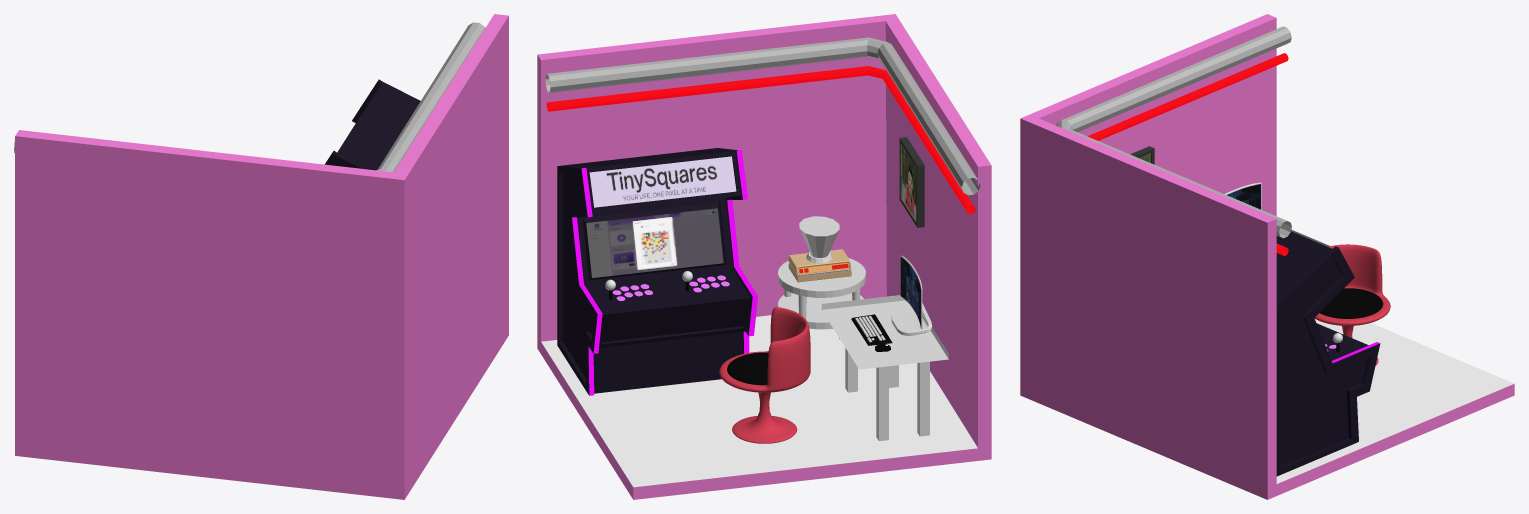
File: roomv2.glb
The picture shows the model from 3 angles, left to right: view 1: azimuth 30°, elevation 25°; view 2: azimuth 150°, elevation 25°; view 3: azimuth 270°, elevation 25°; orthographic projection. The views are drawn at different scales.
Parts seen in each view (by area): view 1: Room, Arcade, Pipes; view 2: Room, Arcade, Pipes, Chair base, Desk, Cube, Cylinder.001, Plane.038, Circle.001, Cylinder.002, Chair cushion, Monitor (+3 smaller); view 3: Room, Arcade, Pipes, Chair base, Chair cushion, Monitor.
Boxes of the visible parts, x1=… form: Room: x1=15, y1=14, x2=508, y2=499; Arcade: x1=325, y1=79, x2=420, y2=170; Pipes: x1=14, y1=22, x2=485, y2=172; Room: x1=537, y1=14, x2=991, y2=499; Arcade: x1=557, y1=148, x2=757, y2=395; Pipes: x1=545, y1=37, x2=980, y2=214; Chair base: x1=719, y1=307, x2=810, y2=443; Desk: x1=821, y1=295, x2=948, y2=369; Cube: x1=899, y1=137, x2=924, y2=227; Cylinder.001: x1=778, y1=258, x2=865, y2=297; Plane.038: x1=788, y1=249, x2=851, y2=282; Circle.001: x1=799, y1=216, x2=839, y2=257; Cylinder.002: x1=778, y1=293, x2=863, y2=329; Chair cushion: x1=727, y1=352, x2=768, y2=385; Monitor: x1=900, y1=255, x2=922, y2=329; Room: x1=1020, y1=14, x2=1514, y2=499; Arcade: x1=1276, y1=231, x2=1380, y2=476; Pipes: x1=1056, y1=26, x2=1291, y2=255; Chair base: x1=1314, y1=244, x2=1390, y2=365; Chair cushion: x1=1320, y1=288, x2=1383, y2=318; Monitor: x1=1224, y1=182, x2=1261, y2=209.
Size of what is drawn, in the model's own units: 11.31 by 7 by 11.31.
28 materials, 4 textured.
